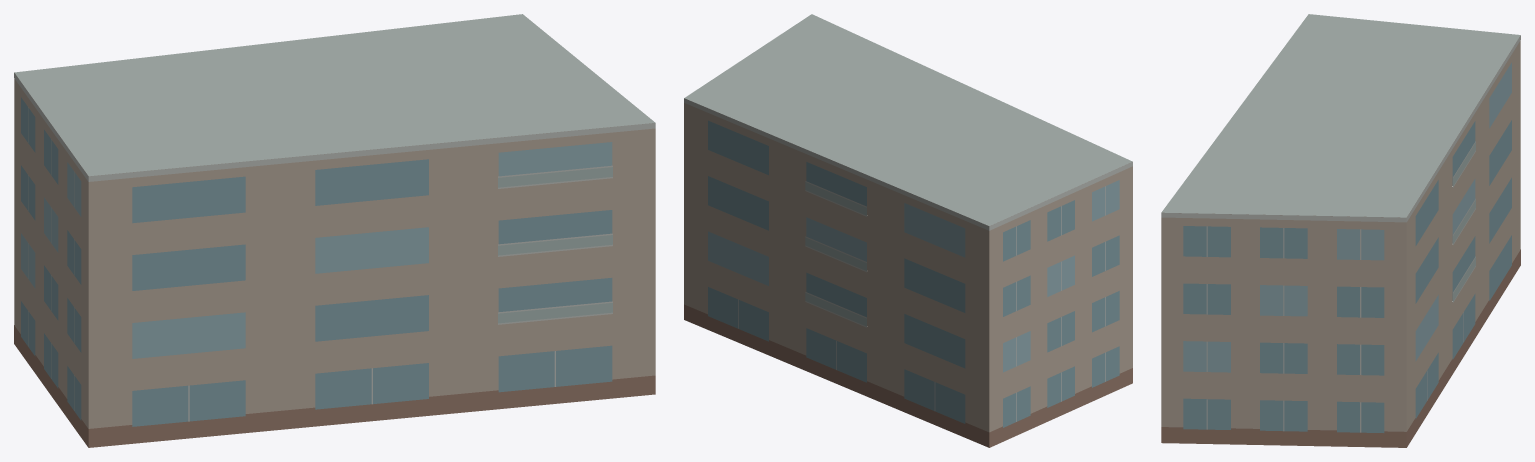
File: survey-upis-32639847.glb
3 renders of one model, left to right at view 1: azimuth 30°, elevation 25°; view 2: azimuth 150°, elevation 25°; view 3: azimuth 270°, elevation 25°, orthographic. The views are drawn at different scales.
Parts seen in each view (by area): view 1: survey-upis-32639847.tmp; view 2: survey-upis-32639847.tmp; view 3: survey-upis-32639847.tmp.
Boxes of the visible parts, box(x1,y1,x2,y2) form: survey-upis-32639847.tmp: box(14, 14, 655, 447); survey-upis-32639847.tmp: box(684, 14, 1132, 447); survey-upis-32639847.tmp: box(1161, 14, 1520, 447).
Bounding box in the file's own units: 22.19 × 11.7 × 16.57.
